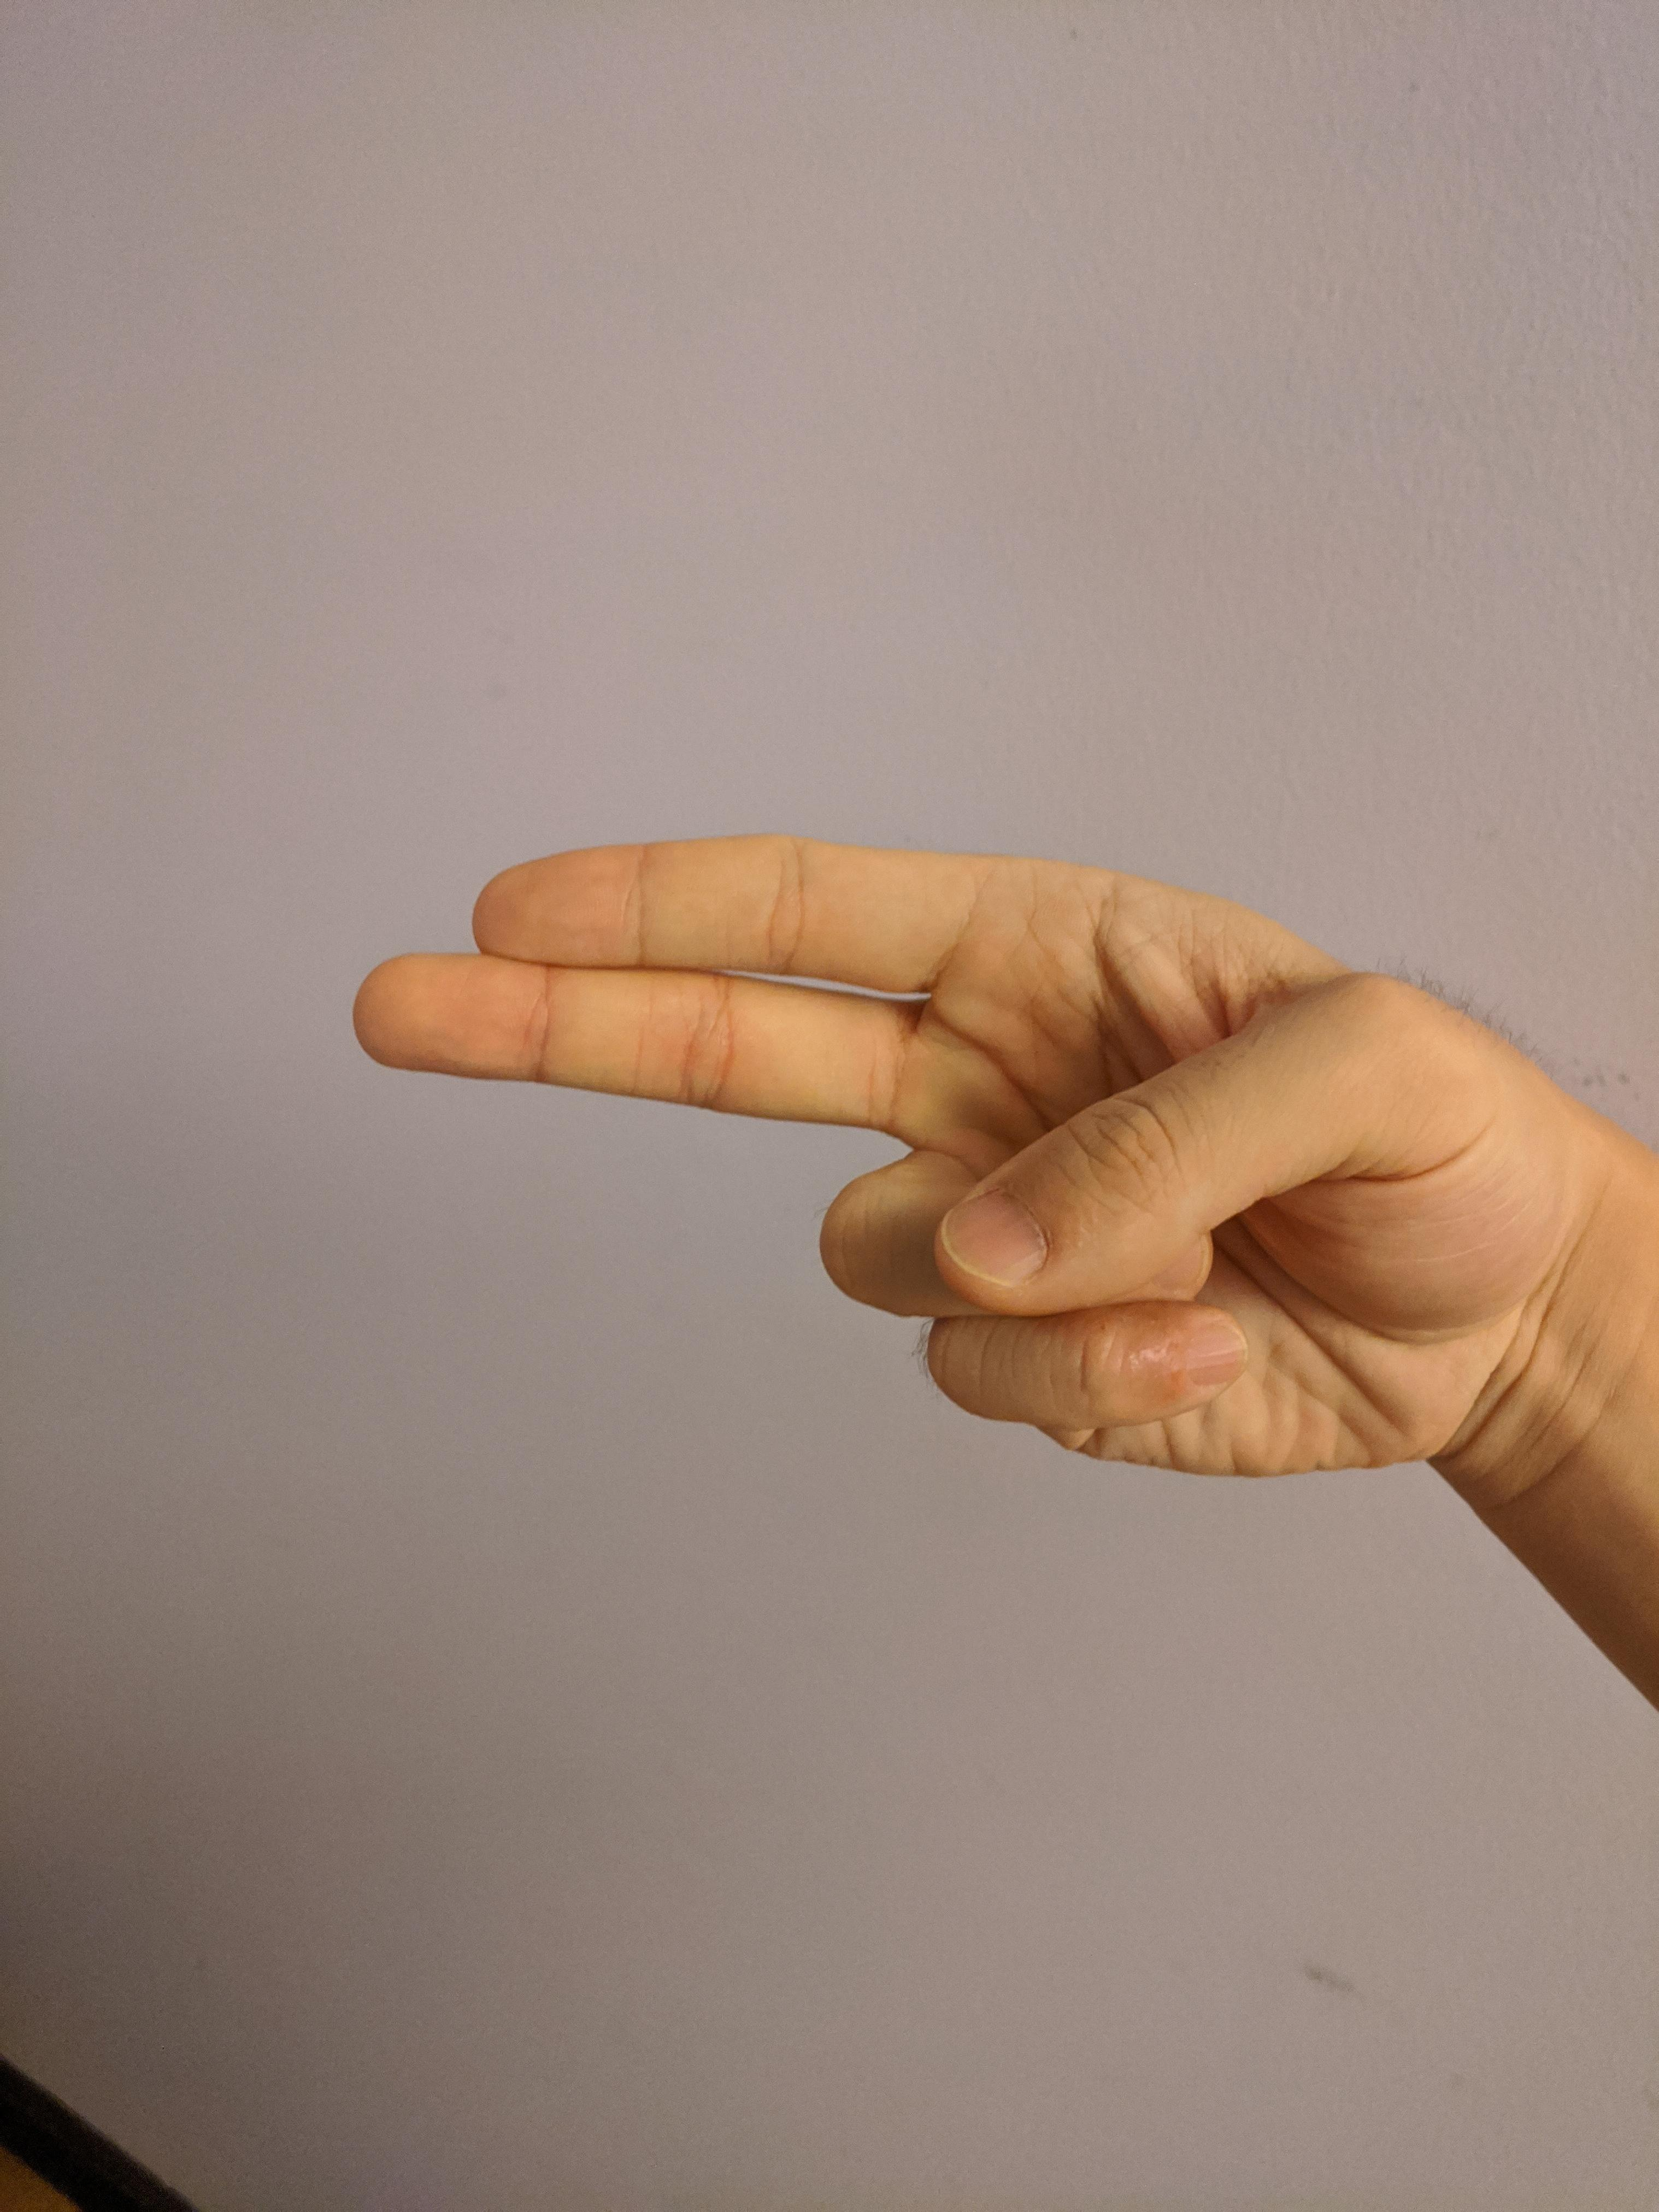H: (333, 815, 1579, 1496)
